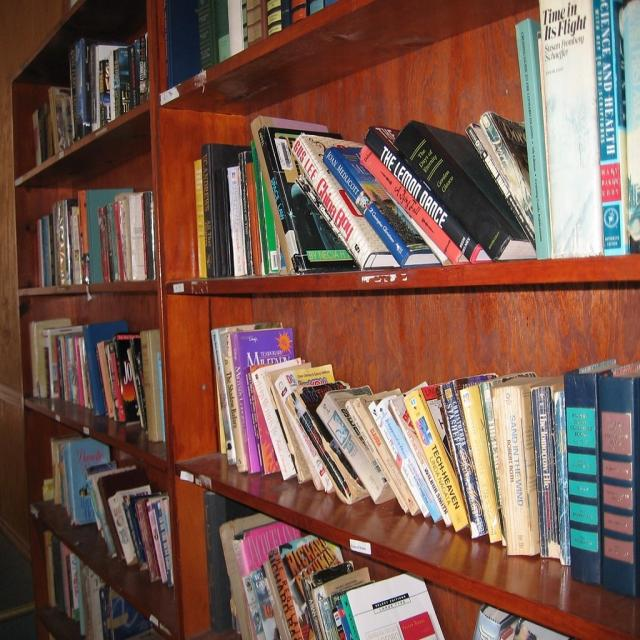book: (539, 0, 602, 258), (295, 134, 370, 275), (565, 373, 600, 583), (316, 397, 386, 500), (252, 370, 295, 477)
